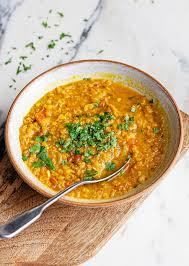Dhal Curry: (21, 65, 169, 210)
